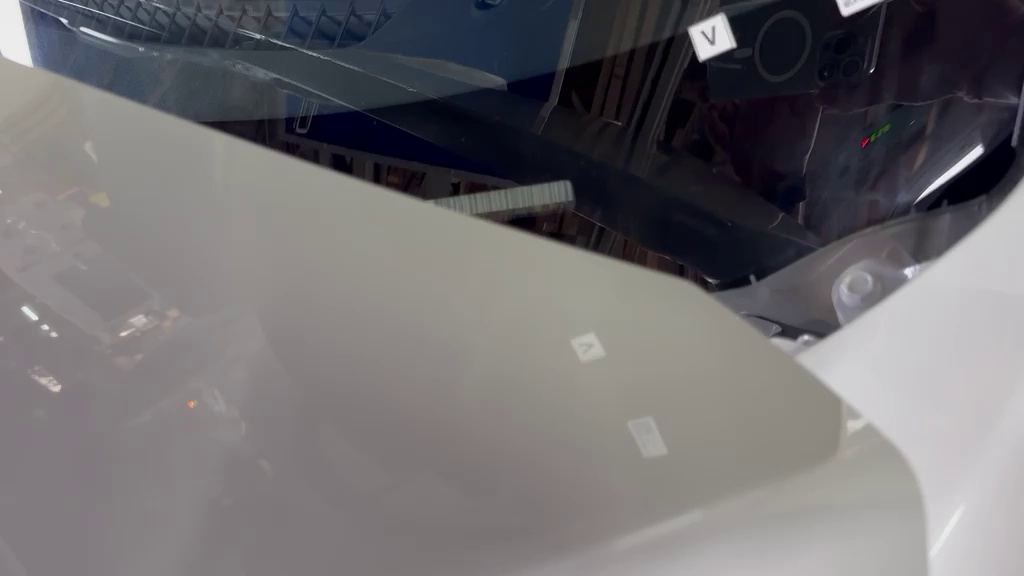hinge: (391, 168, 599, 249)
